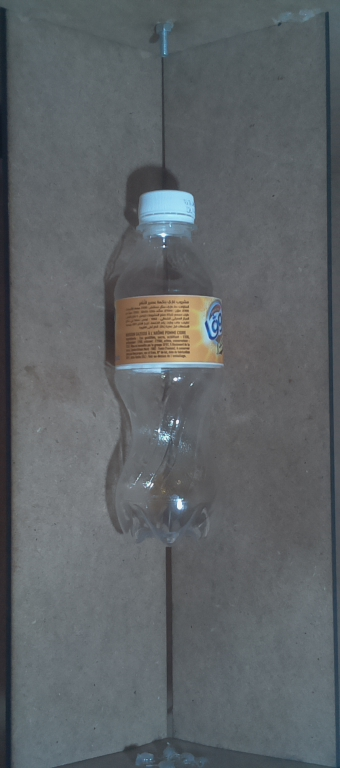Bouteille_0.3L: (97, 178, 232, 558)
